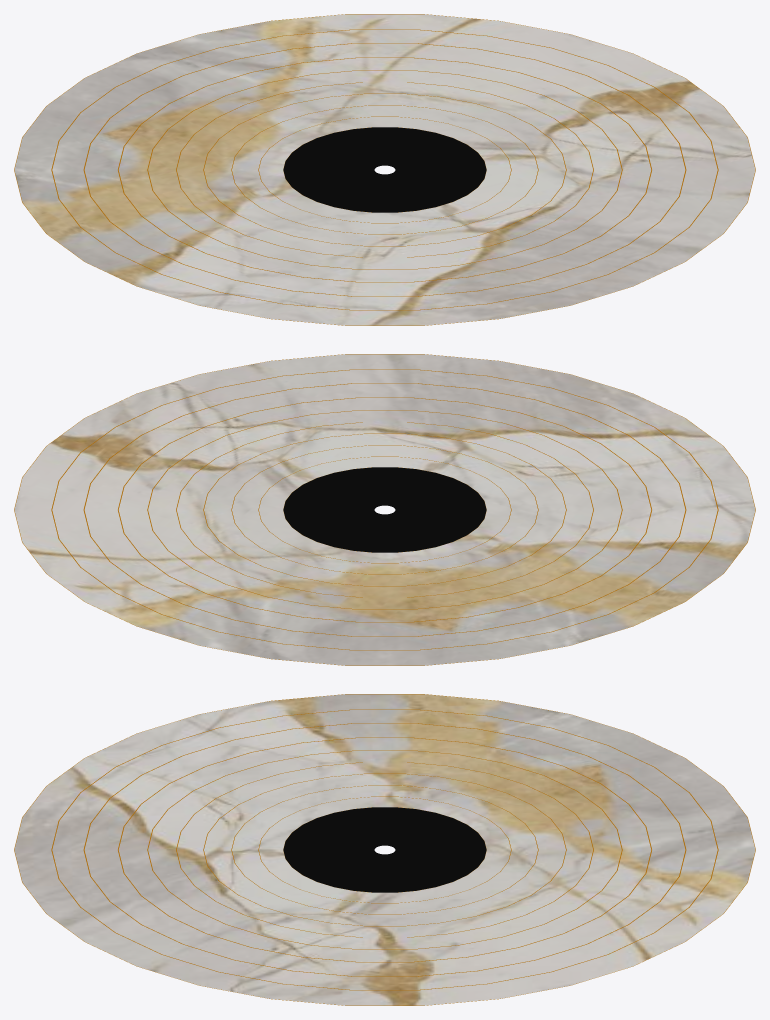
File: marble.glb
3 renders of one model, top to bottom at view 1: azimuth 30°, elevation 25°; view 2: azimuth 150°, elevation 25°; view 3: azimuth 270°, elevation 25°, orthographic.
Visible parts, largest first — view 1: Circle.019, Circle.003, Circle.004, Circle.002, Circle.005, Circle.012, Circle.001, Circle.014, Circle.015, Circle.011; view 2: Circle.019, Circle.003, Circle.004, Circle.002, Circle.005, Circle.012, Circle.001, Circle.014, Circle.015, Circle.011; view 3: Circle.019, Circle.003, Circle.004, Circle.002, Circle.005, Circle.012, Circle.001, Circle.014, Circle.015, Circle.011.
Part boxes in pixels (x1,y1,x2,y2): Circle.019: (14,14,755,325); Circle.003: (52,30,717,309); Circle.004: (84,43,685,296); Circle.002: (118,58,651,281); Circle.005: (148,70,621,269); Circle.012: (176,82,593,257); Circle.001: (283,127,486,212); Circle.014: (203,93,566,246); Circle.015: (231,105,538,234); Circle.011: (258,117,511,222); Circle.019: (14,354,755,665); Circle.003: (52,370,717,649); Circle.004: (84,383,685,636); Circle.002: (118,398,651,621); Circle.005: (148,410,621,609); Circle.012: (176,422,593,597); Circle.001: (283,467,486,552); Circle.014: (203,433,566,586); Circle.015: (231,445,538,574); Circle.011: (258,457,511,562); Circle.019: (14,694,755,1005); Circle.003: (52,710,717,989); Circle.004: (84,723,685,976); Circle.002: (118,738,651,961); Circle.005: (148,750,621,949); Circle.012: (176,762,593,937); Circle.001: (283,807,486,892); Circle.014: (203,773,566,926); Circle.015: (231,785,538,914); Circle.011: (258,797,511,902).
Bounding box in the file's own units: 39.55 × 0 × 39.76.
3 materials, 1 textured.
